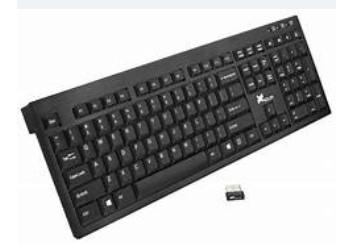Keyboard: (21, 15, 332, 239)
